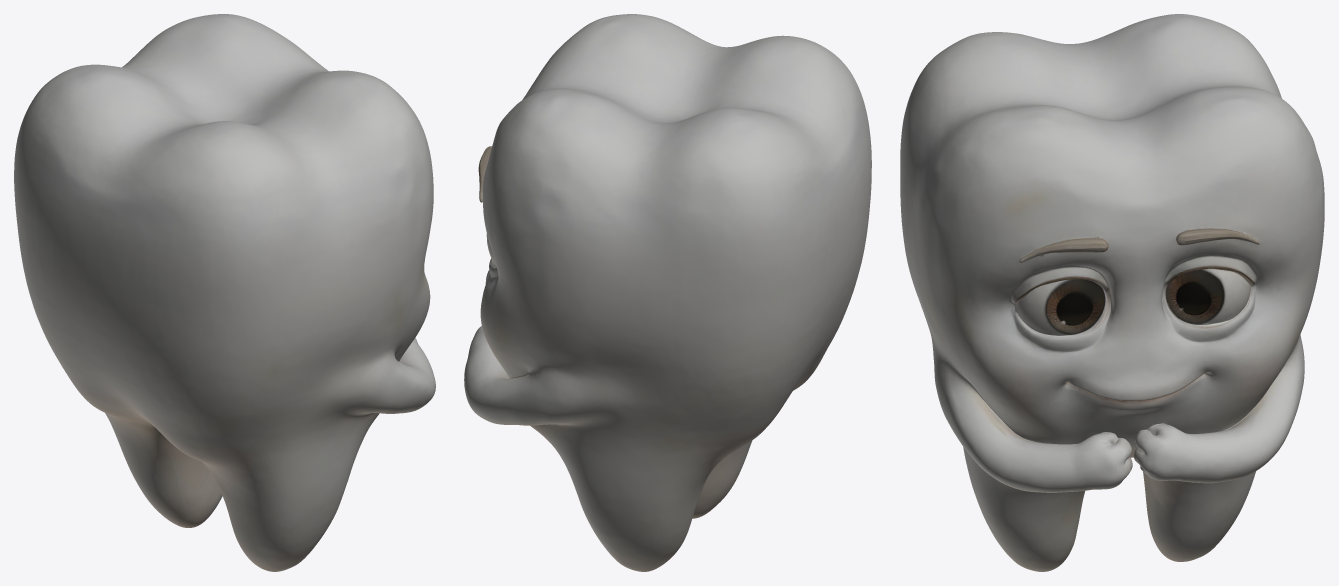
File: glbData_1780601435067_pe1kk.glb
3 renders of one model, left to right at view 1: azimuth 30°, elevation 25°; view 2: azimuth 150°, elevation 25°; view 3: azimuth 270°, elevation 25°, orthographic. The views are drawn at different scales.
Visible parts, largest first — view 1: tripo_node_95d9bec8-75df-4b66-812d-6da72ca22fbe; view 2: tripo_node_95d9bec8-75df-4b66-812d-6da72ca22fbe; view 3: tripo_node_95d9bec8-75df-4b66-812d-6da72ca22fbe.
Boxes of the visible parts, x1,y1,x2,y2 form: tripo_node_95d9bec8-75df-4b66-812d-6da72ca22fbe: (14, 14, 435, 571); tripo_node_95d9bec8-75df-4b66-812d-6da72ca22fbe: (464, 14, 871, 571); tripo_node_95d9bec8-75df-4b66-812d-6da72ca22fbe: (900, 14, 1324, 571).
Size of the model in its own units: 0.1148 by 0.15 by 0.1168.
1 material, 1 textured.
